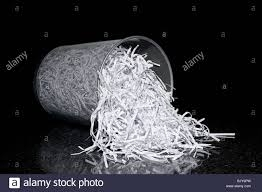paper: (71, 103, 126, 169), (169, 110, 233, 154), (117, 53, 163, 97), (134, 101, 170, 143), (105, 81, 132, 118), (122, 142, 171, 161)
